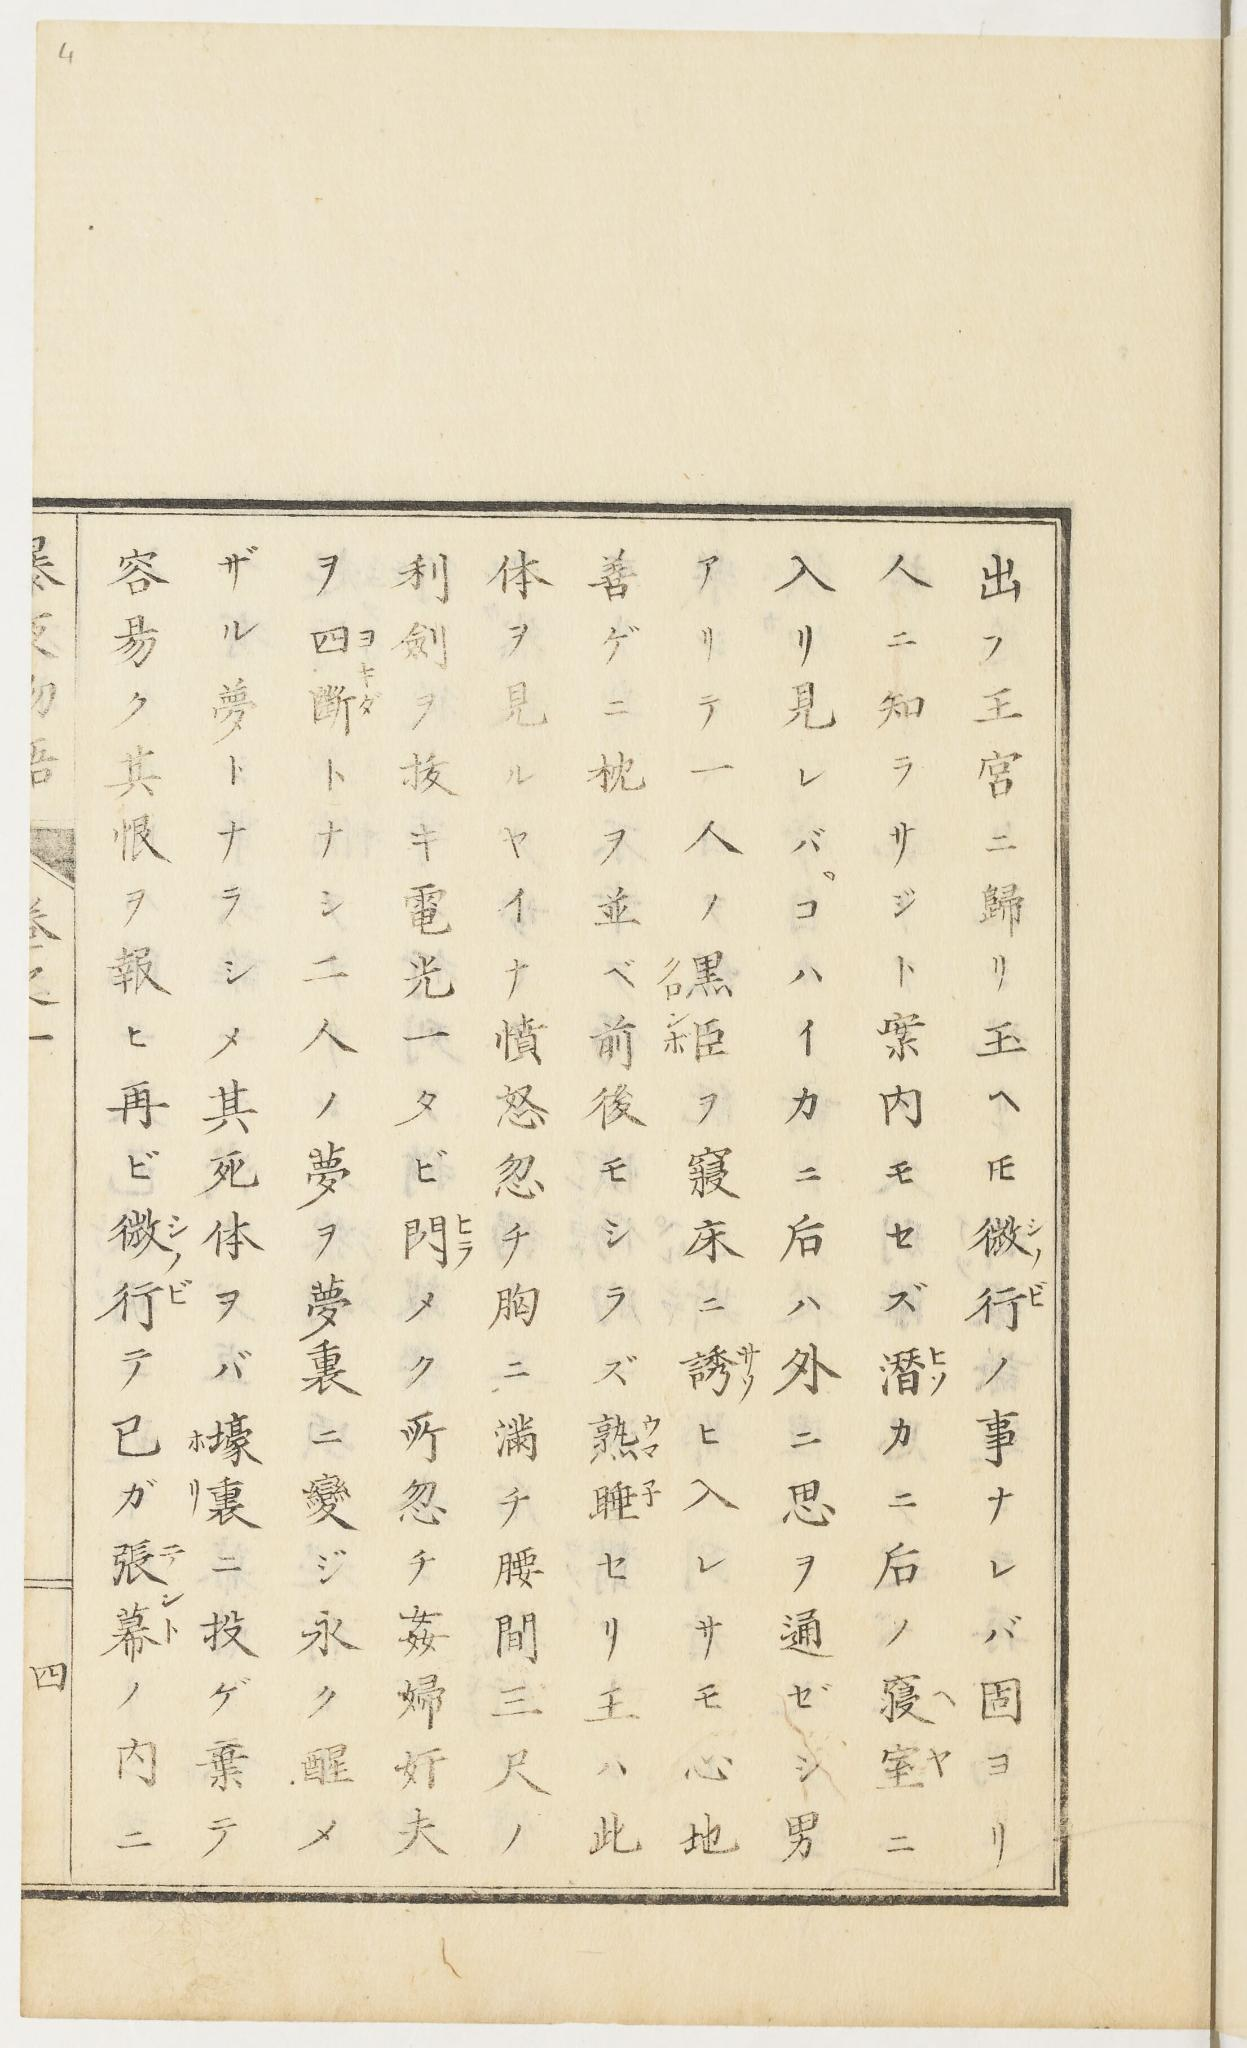MainZone-Character: (302, 661, 386, 745), (95, 1279, 206, 1341), (107, 1587, 190, 1666), (98, 1208, 195, 1276), (678, 1340, 763, 1404), (967, 1273, 1054, 1336), (874, 1671, 960, 1733), (585, 1410, 670, 1472), (967, 1207, 1054, 1267), (583, 1473, 667, 1533), (105, 1536, 189, 1593), (874, 1739, 960, 1792), (880, 1344, 954, 1400), (304, 619, 381, 657)
MainZone-Ruby: (733, 1336, 763, 1400), (351, 663, 383, 721), (165, 1208, 190, 1274), (157, 1589, 184, 1646), (926, 1344, 953, 1394), (1025, 1213, 1048, 1265), (635, 1413, 662, 1460), (164, 1277, 202, 1309), (931, 1681, 962, 1717), (1025, 1276, 1052, 1315), (161, 1539, 189, 1571), (637, 1476, 663, 1510), (925, 1741, 950, 1776), (357, 628, 382, 657)
